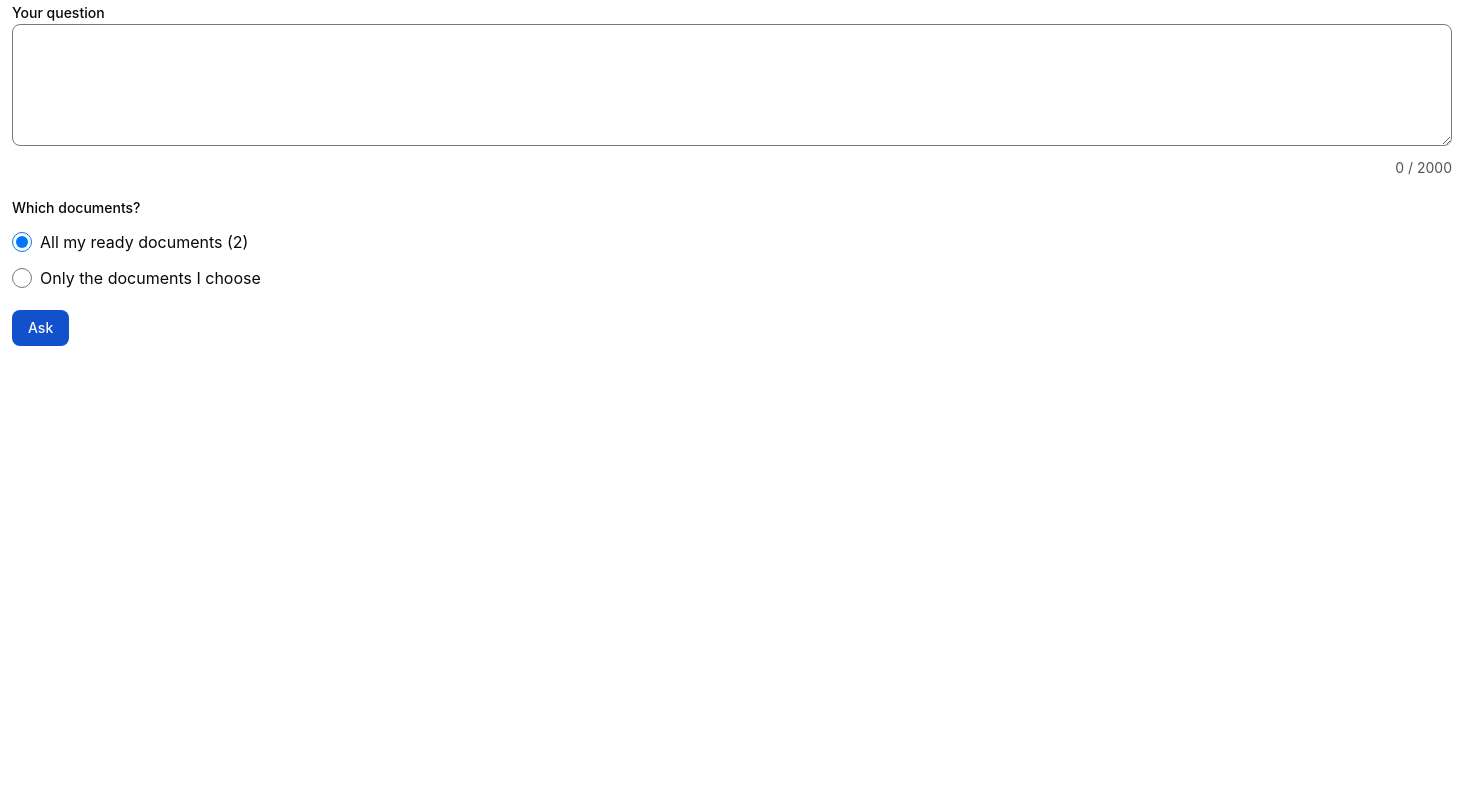
Test: AskView › shows the incomplete notice and the notices of the answer
The image size is (1464, 810).
Type "q" into the text box labelled "Your question" at (732, 85), box [12, 24, 1452, 146]
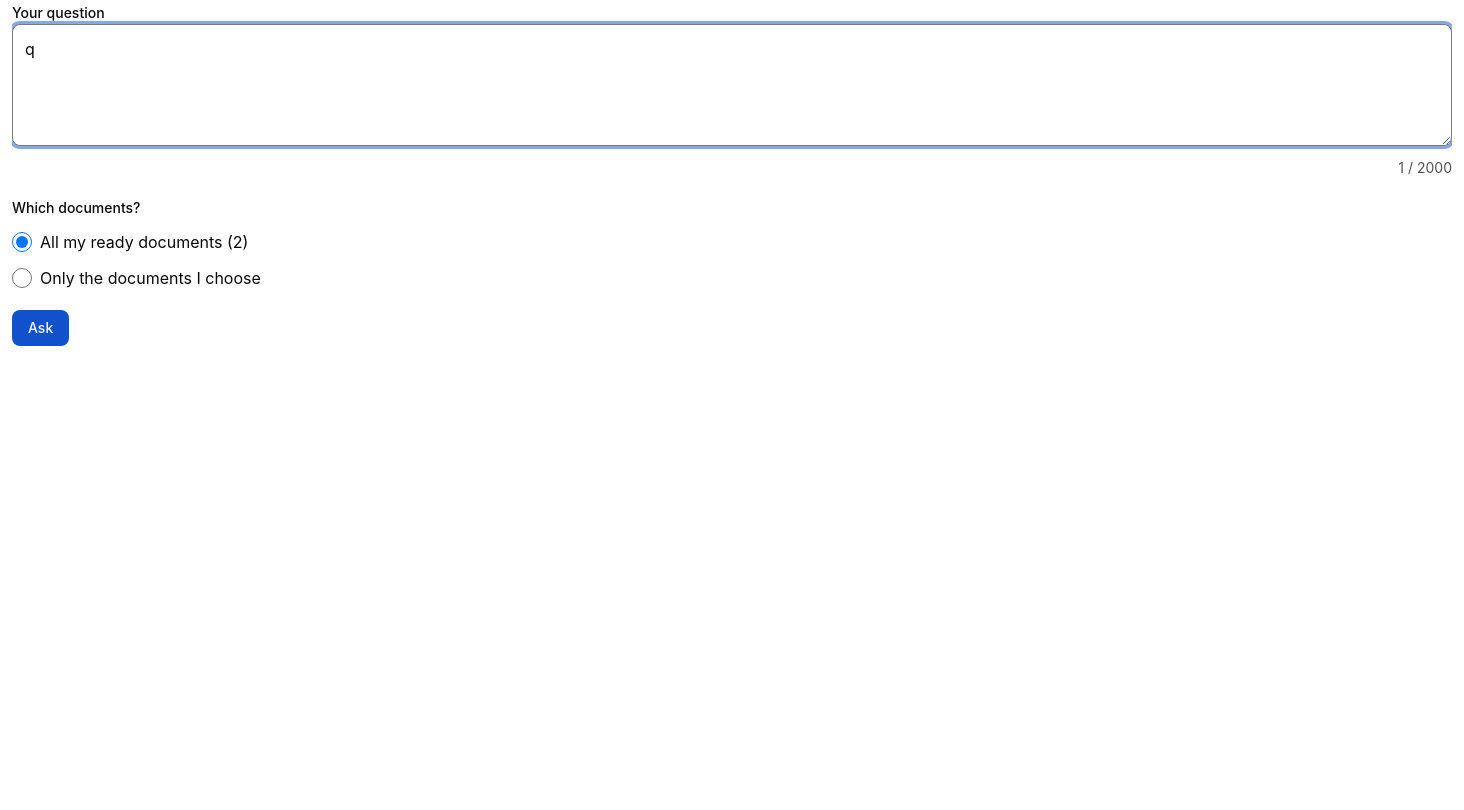
Click the button "Ask" at (41, 328), box [12, 310, 69, 346]
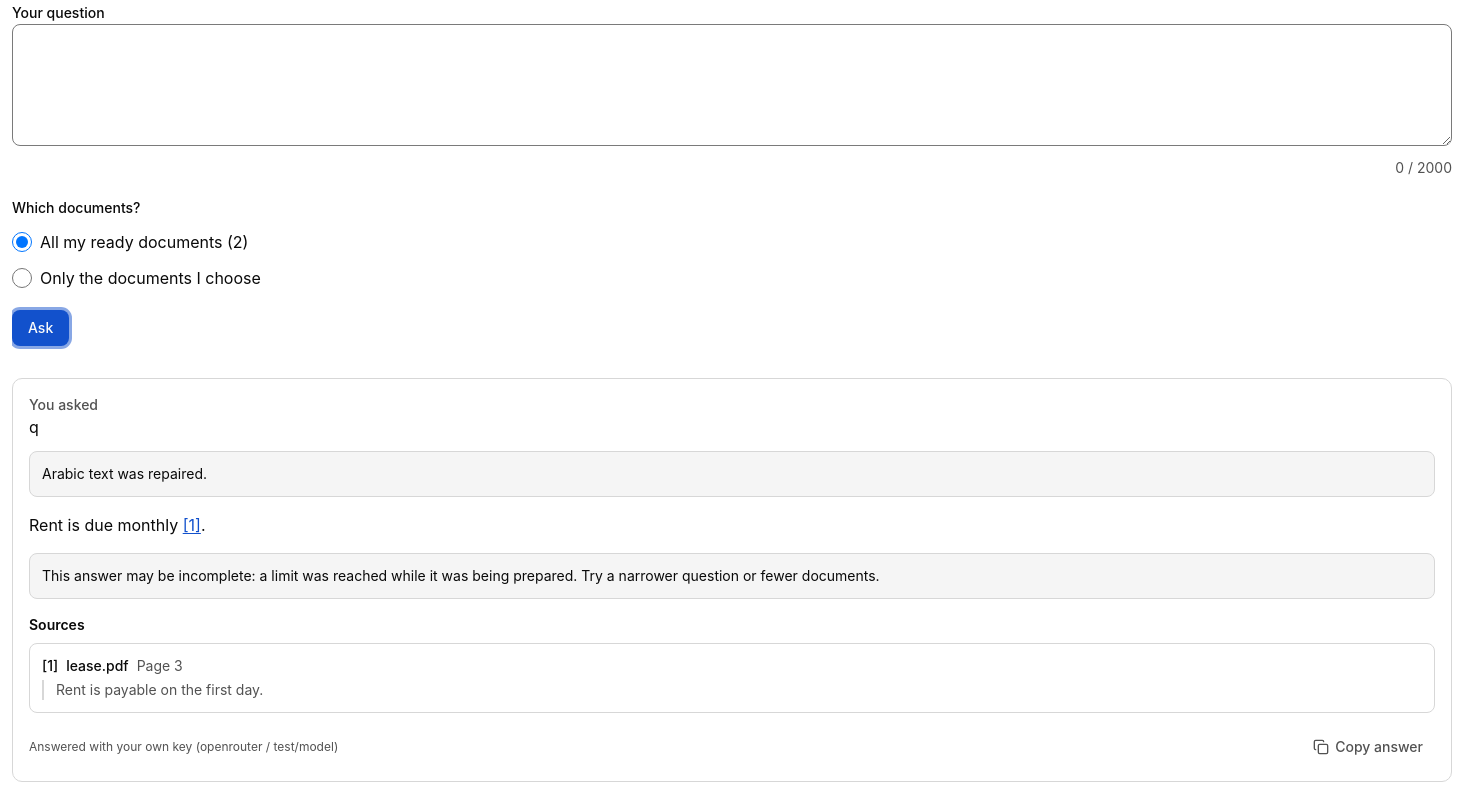
Check: the message with test id "answer-incomplete" shows "may be incomplete", box [42, 567, 880, 584]
Check: the list with test id "answer-notices" reads "Arabic text was repaired.", box [42, 465, 207, 482]
